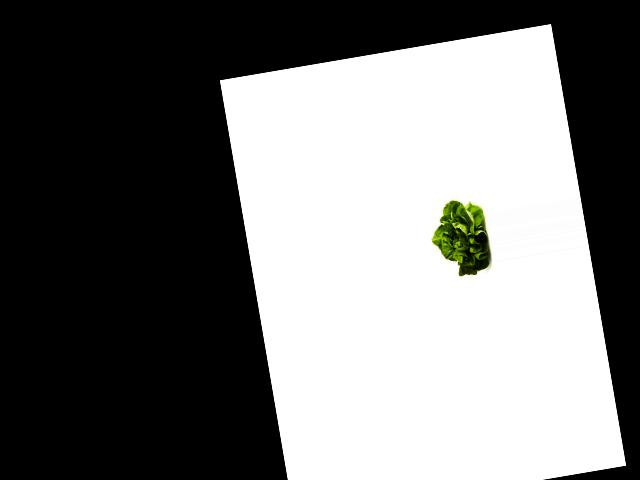lettuce: (426, 193, 494, 281)
